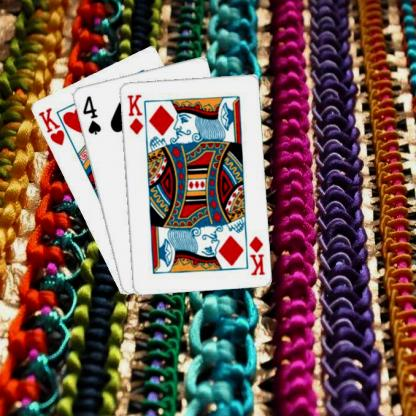4S: (79, 93, 102, 136)
KD: (246, 233, 266, 276), (125, 91, 144, 135)
KH: (35, 105, 66, 147)
